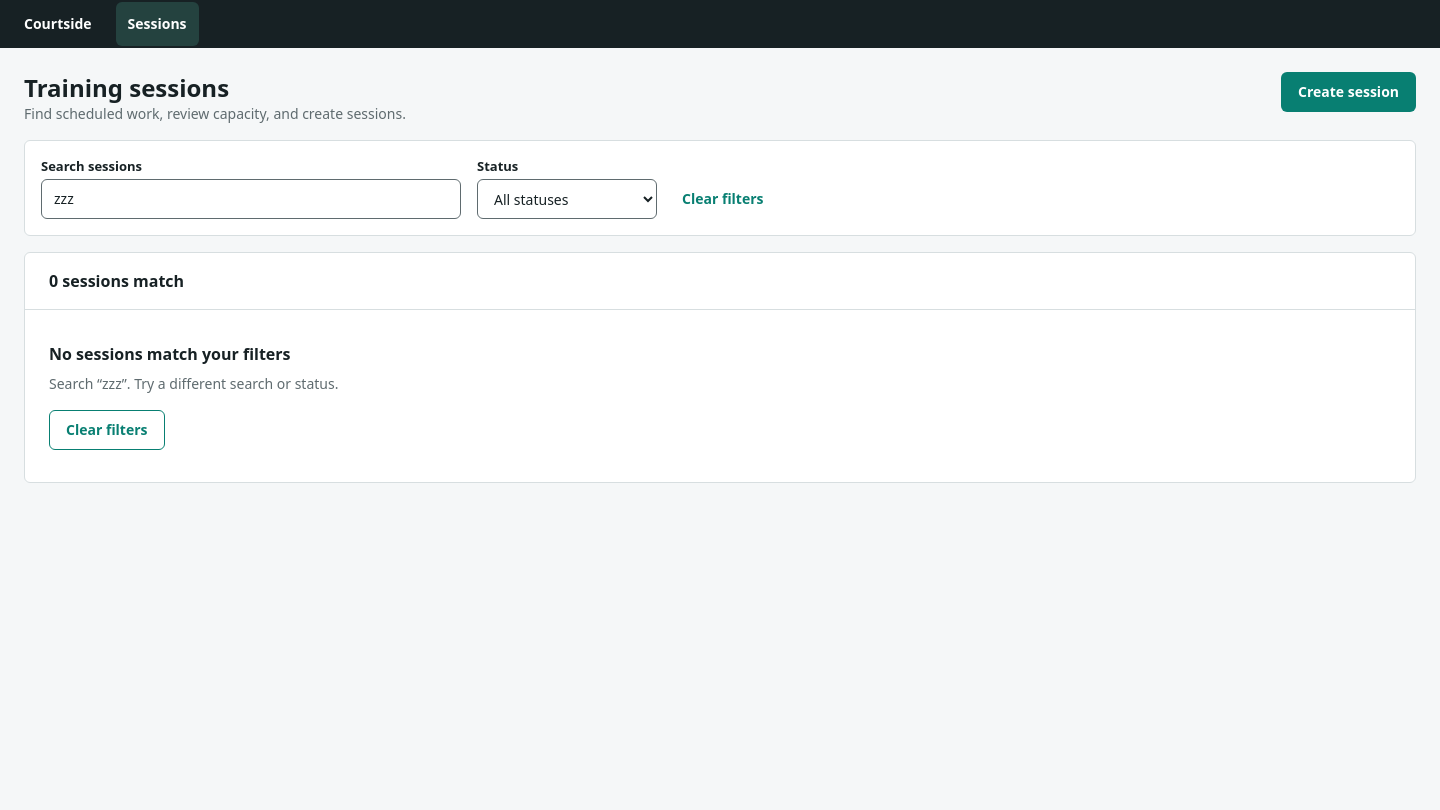
Sessions workspace › drops a pending search keystroke when filters are cleared elsewhere (review R3)
In the search field labelled "Search sessions": point(251, 199) [41,179,461,219], type "y"
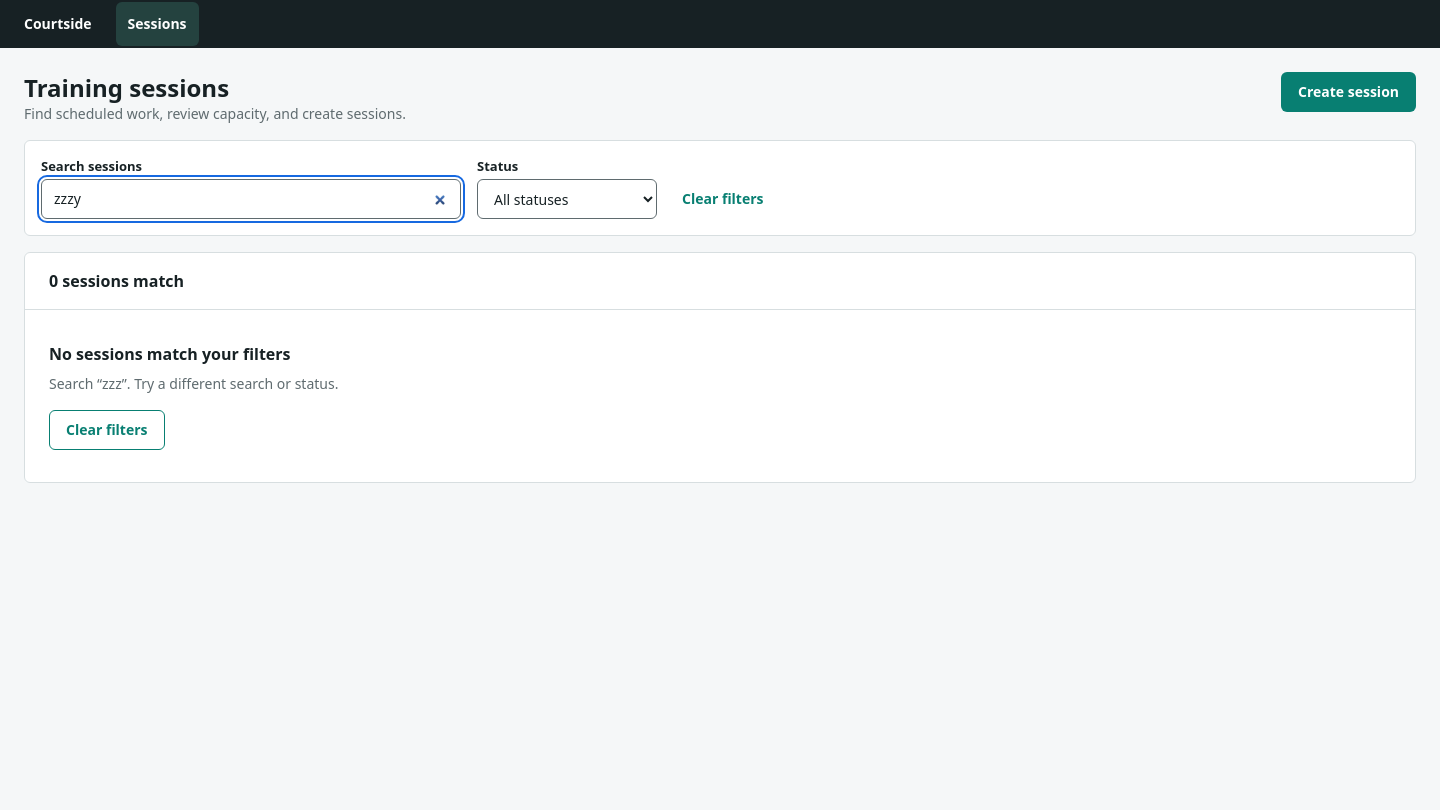
Click the button "Clear filters" below "Search “zzz”": point(107, 430) [49,410,164,450]
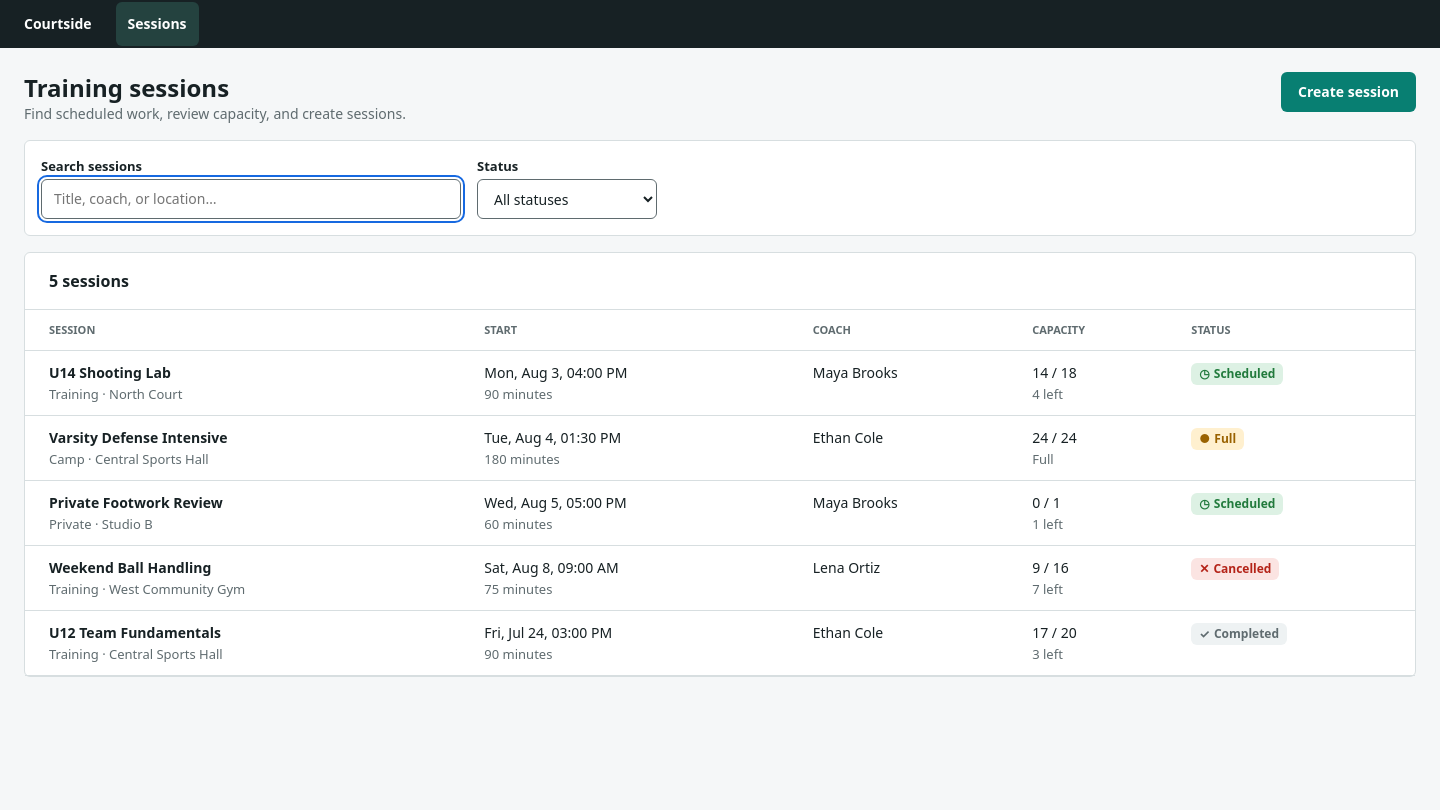
Check: the search field labelled "Search sessions" is empty, box [41,179,461,219]
Check: the heading "5 sessions" is shown, box [49,269,129,293]
